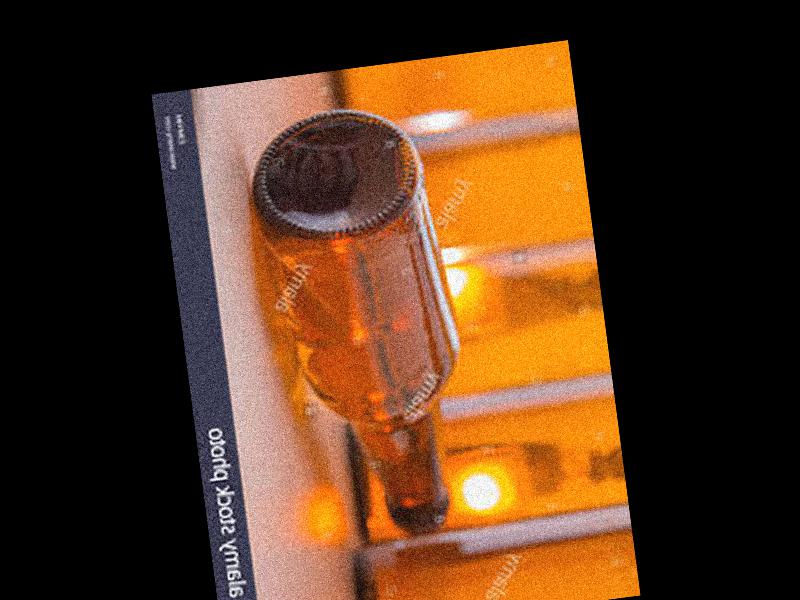Beer: (234, 96, 484, 543)
